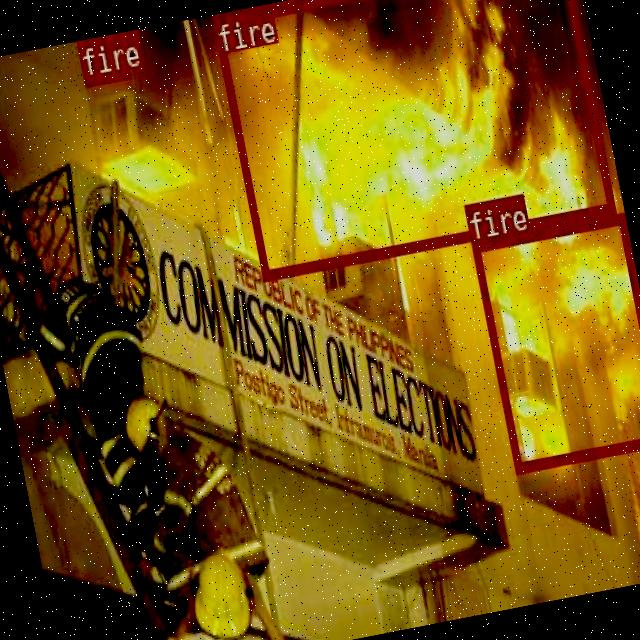fire: (211, 0, 614, 279), (469, 212, 640, 470), (77, 34, 127, 84)
